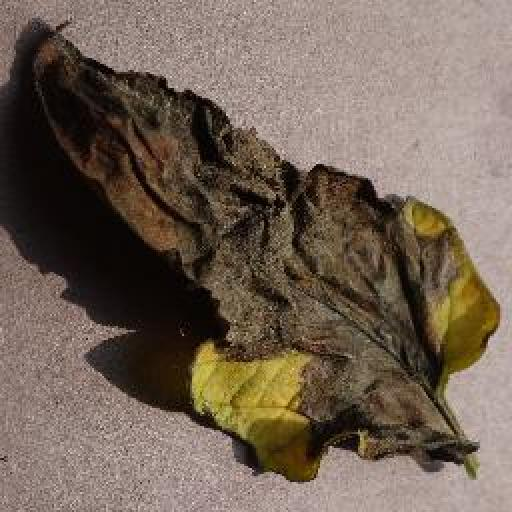Late Blight: (32, 16, 505, 485)
